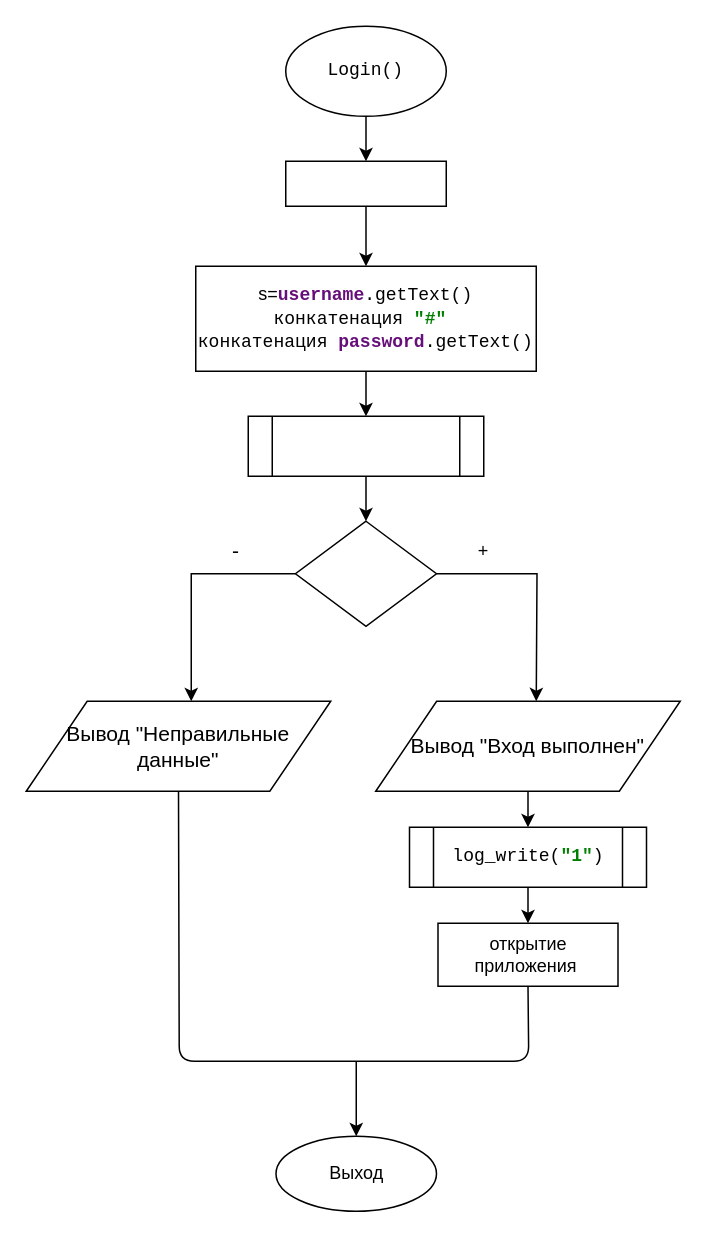
The diagram is 707 pixels wide and 1238 high, and some of its shapes have lost their labels. The shapes that lost their labels are listed below. From the top down, each one's box as (x1, y1, x2, y2) in pixels, then its label:
(284, 160, 446, 206): s=" "
(247, 415, 484, 476): MyThread( s , key )
(294, 520, 436, 626): key=="1"
